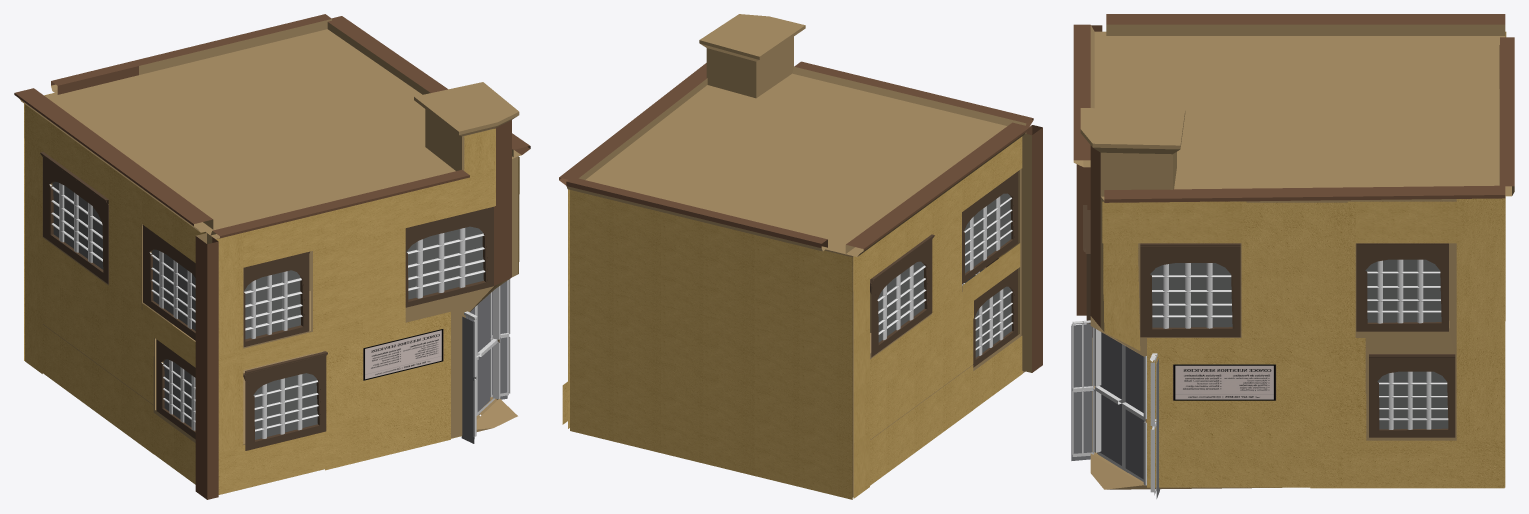
3 views of the same model, side by side, from view 1: azimuth 30°, elevation 25°; view 2: azimuth 150°, elevation 25°; view 3: azimuth 270°, elevation 25° (orthographic). The views are drawn at different scales.
Parts seen in each view (by area): view 1: Cube_3, Plane.003_5, Plane.004_8, Plane.008_12, Plane.002_7, yellow_stucco_texture.011_24, Plane.009_13, yellow_stucco_texture.010_23, Plane.010_14, Plane.001_4, selection_lashes_poster_transparent_41, yellow_stucco_texture.007_21 (+21 smaller); view 2: yellow_stucco_texture.029_40, Cube_3, Plane.008_12, Plane.009_13, yellow_stucco_texture.011_24, yellow_stucco_texture.010_23, Plane.010_14, yellow_stucco_texture.007_21, yellow_stucco_texture.017_30, yellow_stucco_texture.018_31, yellow_stucco_texture.019_32, yellow_stucco_texture.023_35 (+15 smaller); view 3: Cube_3, Plane.005_9, Plane.006_10, Plane.007_11, Plane.001_4, selection_lashes_poster_transparent.001_42, Plane.012_44, yellow_stucco_texture.001_15, Plane.011_43, Plane.004_8.
Part boxes in pixels (x1,y1,x2,y2): Cube_3: [14, 14, 530, 499]; Plane.003_5: [405, 206, 493, 307]; Plane.004_8: [243, 351, 327, 450]; Plane.008_12: [40, 152, 108, 284]; Plane.002_7: [243, 251, 310, 346]; yellow_stucco_texture.011_24: [41, 238, 154, 355]; Plane.009_13: [142, 225, 195, 340]; yellow_stucco_texture.010_23: [25, 138, 42, 373]; Plane.010_14: [156, 339, 195, 439]; Plane.001_4: [465, 286, 500, 415]; selection_lashes_poster_transparent_41: [363, 329, 443, 380]; yellow_stucco_texture.007_21: [51, 123, 108, 199]; yellow_stucco_texture.029_40: [570, 190, 852, 499]; Cube_3: [559, 14, 1042, 497]; Plane.008_12: [870, 234, 934, 357]; Plane.009_13: [962, 171, 1018, 283]; yellow_stucco_texture.011_24: [870, 292, 973, 393]; yellow_stucco_texture.010_23: [853, 277, 869, 498]; Plane.010_14: [973, 269, 1017, 367]; yellow_stucco_texture.007_21: [878, 203, 931, 273]; yellow_stucco_texture.017_30: [943, 319, 973, 385]; yellow_stucco_texture.018_31: [914, 341, 942, 406]; yellow_stucco_texture.019_32: [886, 362, 914, 427]; yellow_stucco_texture.023_35: [914, 387, 942, 452]; Cube_3: [1073, 14, 1514, 489]; Plane.005_9: [1140, 243, 1240, 337]; Plane.006_10: [1356, 243, 1448, 331]; Plane.007_11: [1369, 354, 1455, 437]; Plane.001_4: [1093, 328, 1146, 485]; selection_lashes_poster_transparent.001_42: [1173, 364, 1275, 400]; Plane.012_44: [1071, 320, 1094, 460]; yellow_stucco_texture.001_15: [1102, 201, 1142, 243]; Plane.011_43: [1150, 353, 1159, 498]; Plane.004_8: [1083, 205, 1092, 337].
Bounding box in the file's own units: 4.17 × 3.69 × 4.28.
8 materials, 2 textured.
